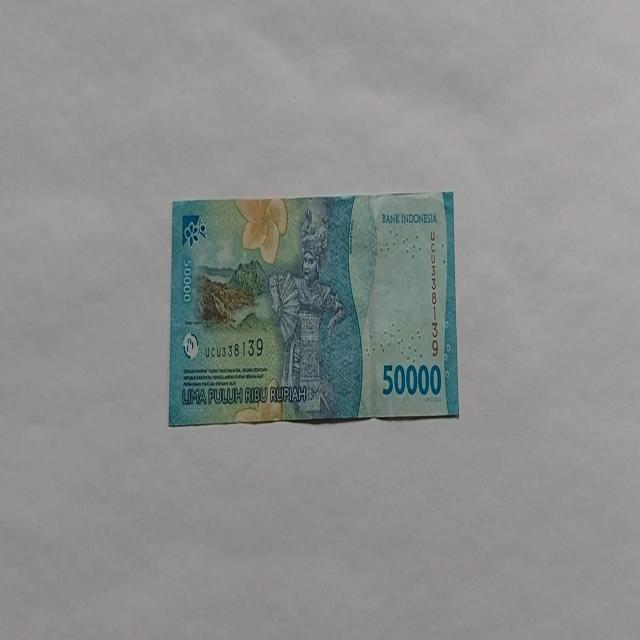lima puluh ribu rupiah: (168, 190, 460, 427)
